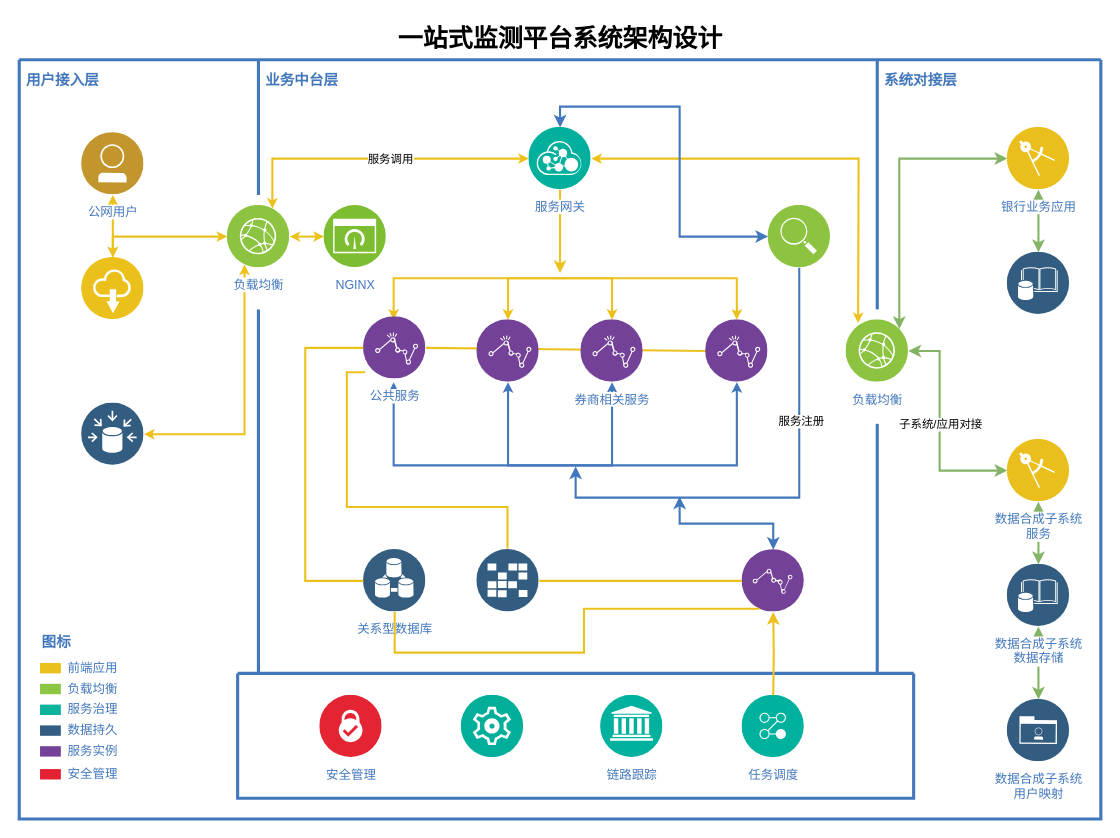
The diagram is 1120 pixels wide and 838 high, and some of its shapes have lost their labels. The shapes that lost their labels are listed below. From the top down, each one's centre as x and y in pixels, then its label:
[799,236]: 注册中心 配置中心
[112,288]: 前端界面
[1038,283]: 银行业务应用 数据存储
[507,350]: 用户服务
[736,350]: 银行相关服务
[112,433]: 内网用户
[507,580]: 分布式缓存
[492,726]: 服务监控
